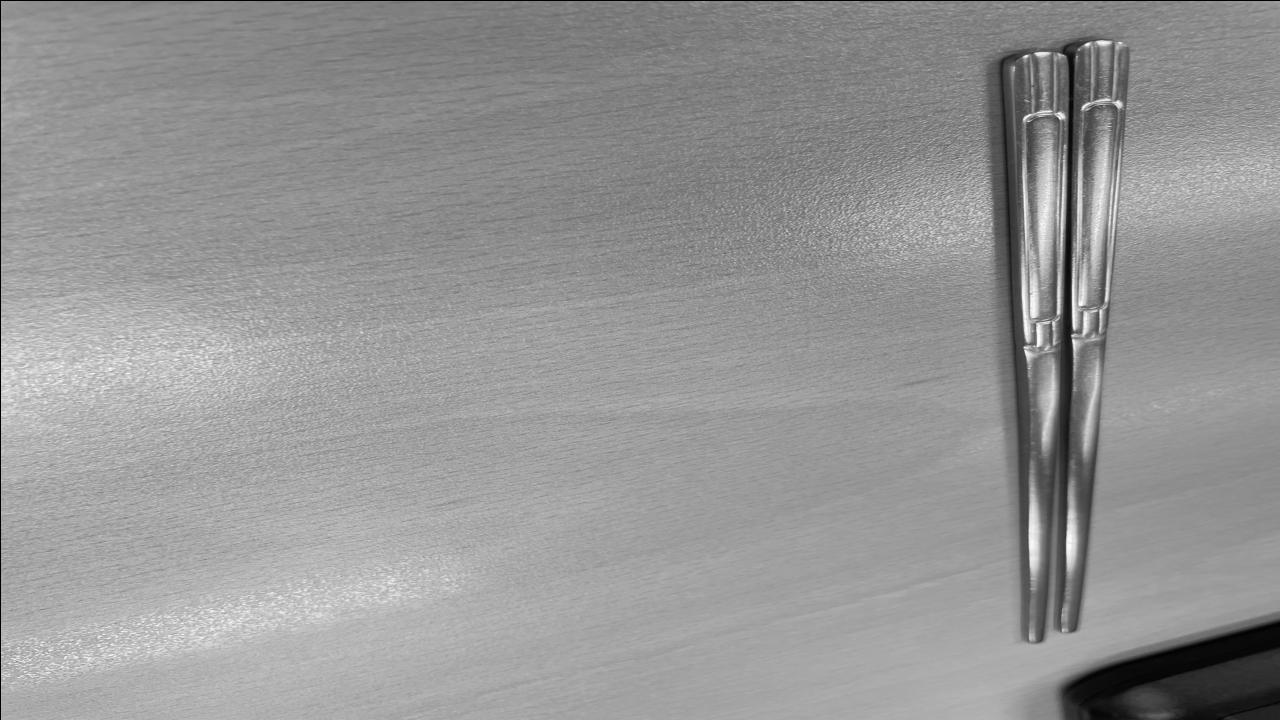chopstick: (996, 34, 1134, 642)
